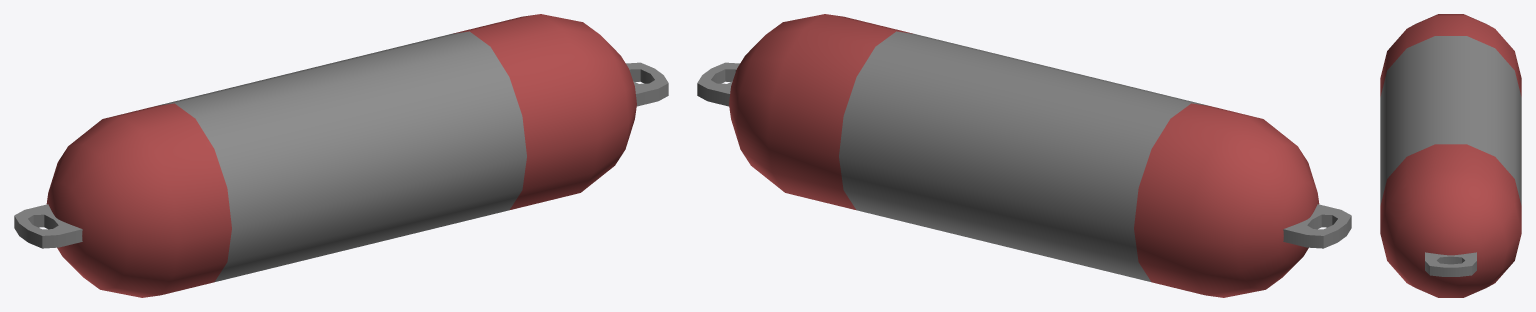
File: prop_18.FBX
3 renders of one model, left to right at view 1: azimuth 30°, elevation 25°; view 2: azimuth 150°, elevation 25°; view 3: azimuth 270°, elevation 25°, orthographic. The views are drawn at different scales.
Visible parts, largest first — view 1: prop_18; view 2: prop_18; view 3: prop_18.
Boxes of the visible parts, bbox=[...] form: prop_18: bbox=[14, 14, 668, 297]; prop_18: bbox=[697, 14, 1351, 297]; prop_18: bbox=[1380, 14, 1521, 297].
Size of the model in its own units: 42.42 by 10.61 by 10.88.
